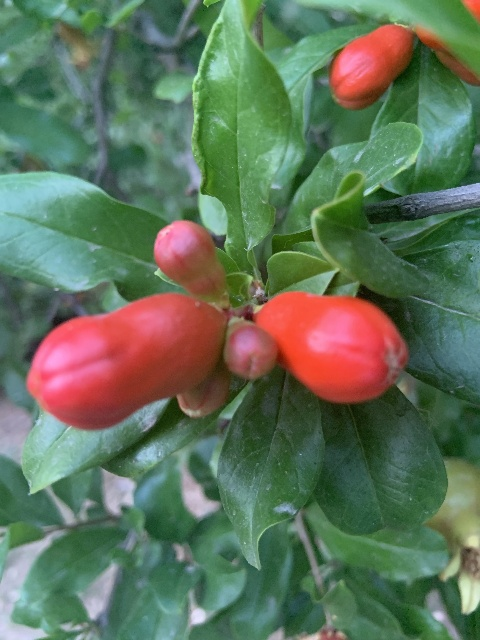bud: (25, 293, 226, 432), (252, 290, 408, 406), (328, 24, 414, 110), (154, 220, 226, 303), (224, 323, 276, 380), (178, 367, 230, 418)
early-fruit: (422, 457, 480, 614)
